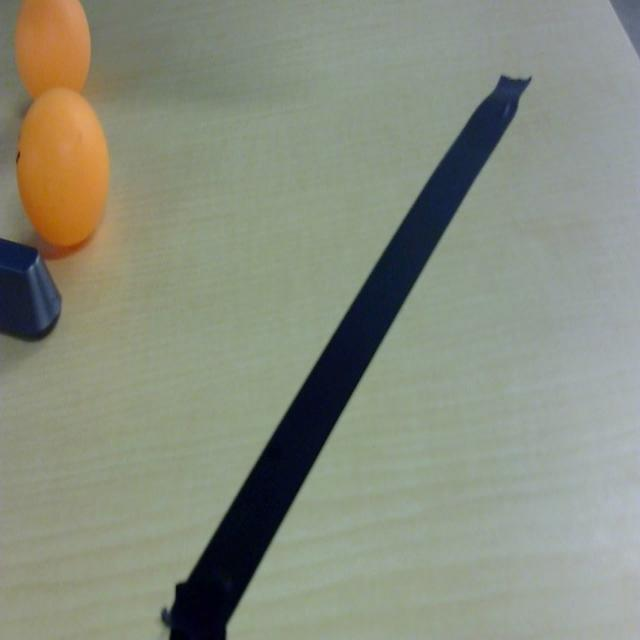ball: (14, 87, 110, 255), (14, 0, 94, 105)
tape: (163, 74, 531, 640)
